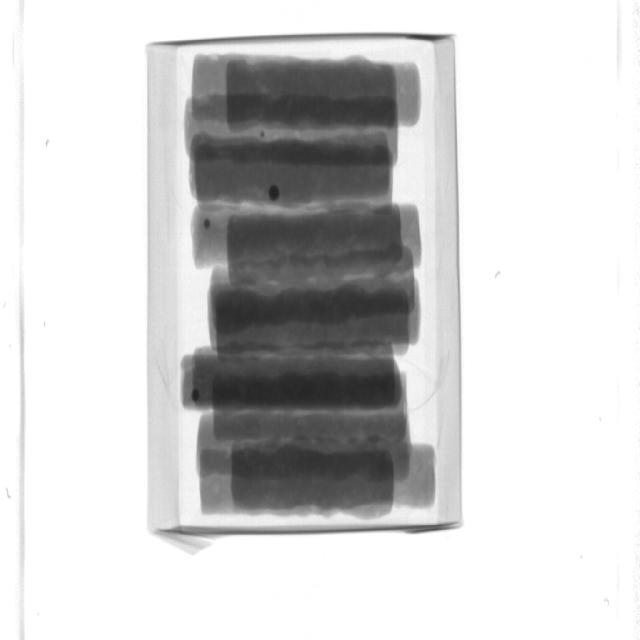ym: (270, 184, 282, 201), (192, 389, 200, 402), (205, 218, 212, 228), (260, 132, 266, 139)
